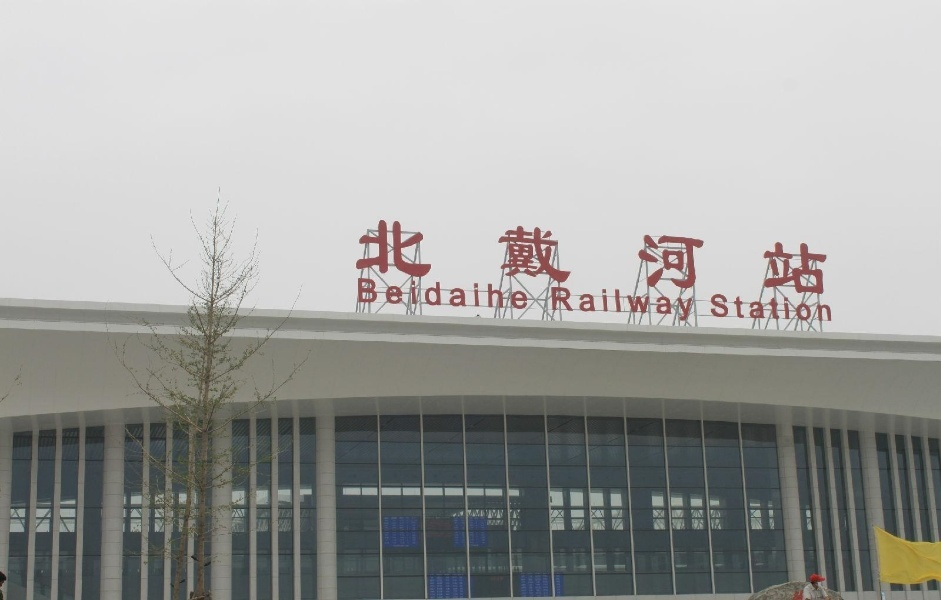text: (369, 215, 384, 298), (385, 215, 400, 298), (401, 215, 416, 298), (417, 215, 432, 298), (433, 215, 448, 298), (449, 215, 464, 298), (465, 215, 480, 298), (481, 215, 496, 298), (497, 215, 512, 298), (513, 215, 528, 298), (529, 215, 544, 298), (545, 215, 560, 298), (561, 215, 576, 298), (577, 215, 592, 298), (593, 215, 608, 298), (609, 215, 624, 298), (625, 215, 640, 298), (641, 215, 656, 298), (657, 215, 672, 298), (673, 215, 688, 298), (689, 215, 704, 298), (705, 215, 720, 298), (721, 215, 736, 298), (737, 215, 752, 298), (753, 215, 768, 298), (769, 215, 784, 298), (785, 215, 800, 298), (801, 215, 816, 298), (817, 215, 828, 298), (561, 285, 576, 323), (577, 285, 592, 323), (593, 285, 608, 323), (609, 285, 624, 323), (625, 285, 640, 323), (641, 285, 656, 323), (657, 285, 672, 323), (673, 285, 688, 323), (369, 276, 384, 313), (385, 276, 400, 313), (401, 276, 416, 313), (417, 276, 432, 313), (433, 276, 448, 313), (449, 276, 464, 313), (465, 276, 480, 313), (481, 276, 496, 313), (497, 276, 512, 313), (513, 276, 528, 313), (721, 292, 736, 326), (737, 292, 752, 326), (753, 292, 768, 326), (769, 292, 784, 326), (785, 292, 800, 326), (801, 292, 816, 326), (817, 292, 832, 326), (362, 215, 368, 298), (356, 276, 368, 313), (550, 285, 560, 323), (710, 292, 720, 326), (689, 285, 696, 323), (529, 276, 530, 313), (833, 292, 834, 326)
